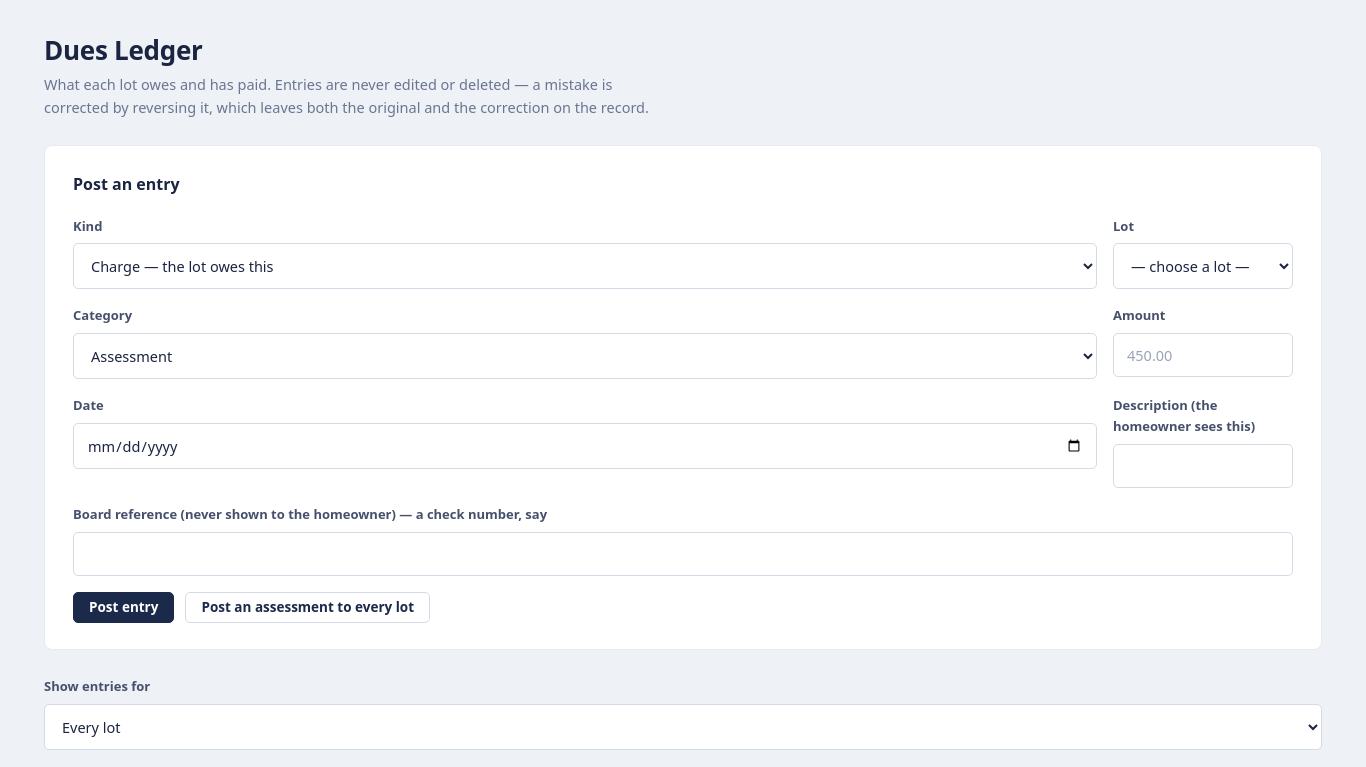
Test case: the money a board member types › refuses a third decimal place rather than rounding it away
In the field labelled "Amount": (1203, 355) top-left (1113, 333), bottom-right (1293, 377), type "450.755"
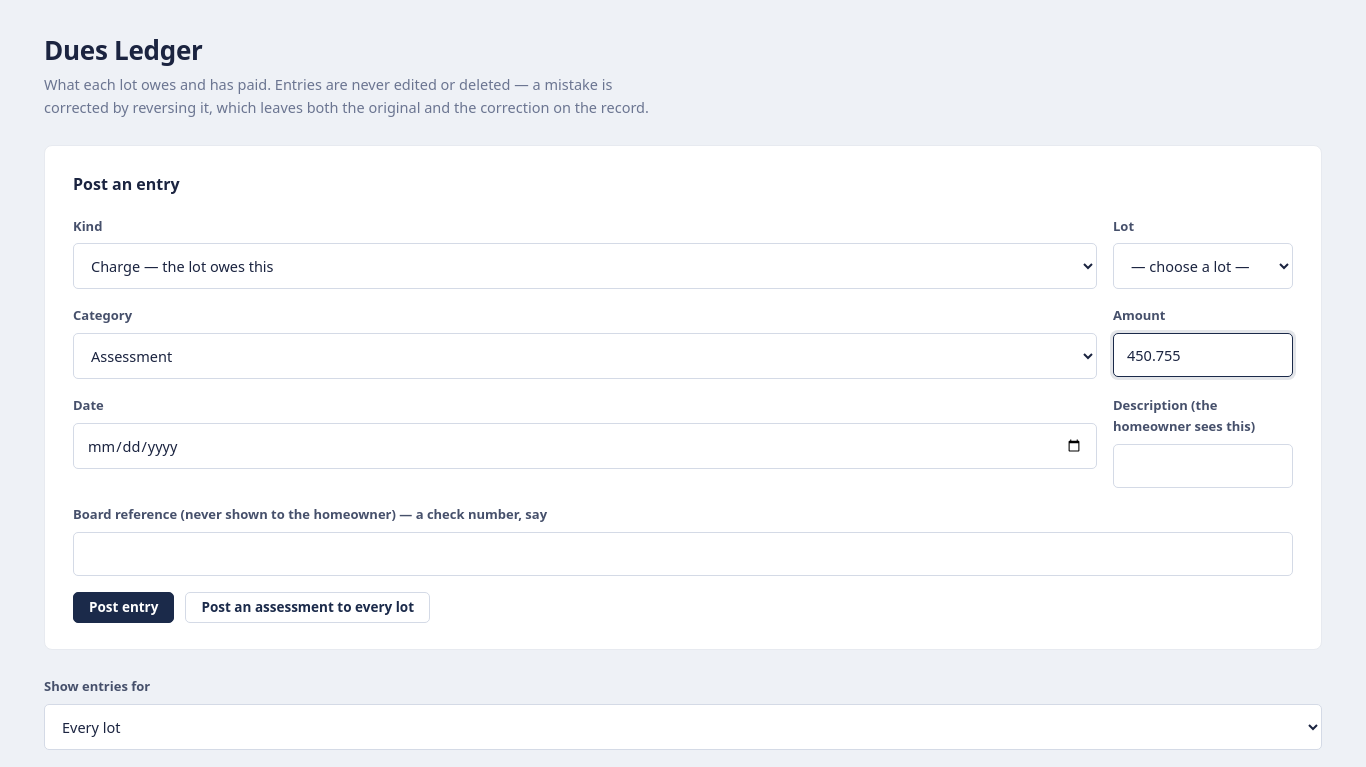
Click the button "Post entry": (124, 607) top-left (73, 592), bottom-right (174, 623)
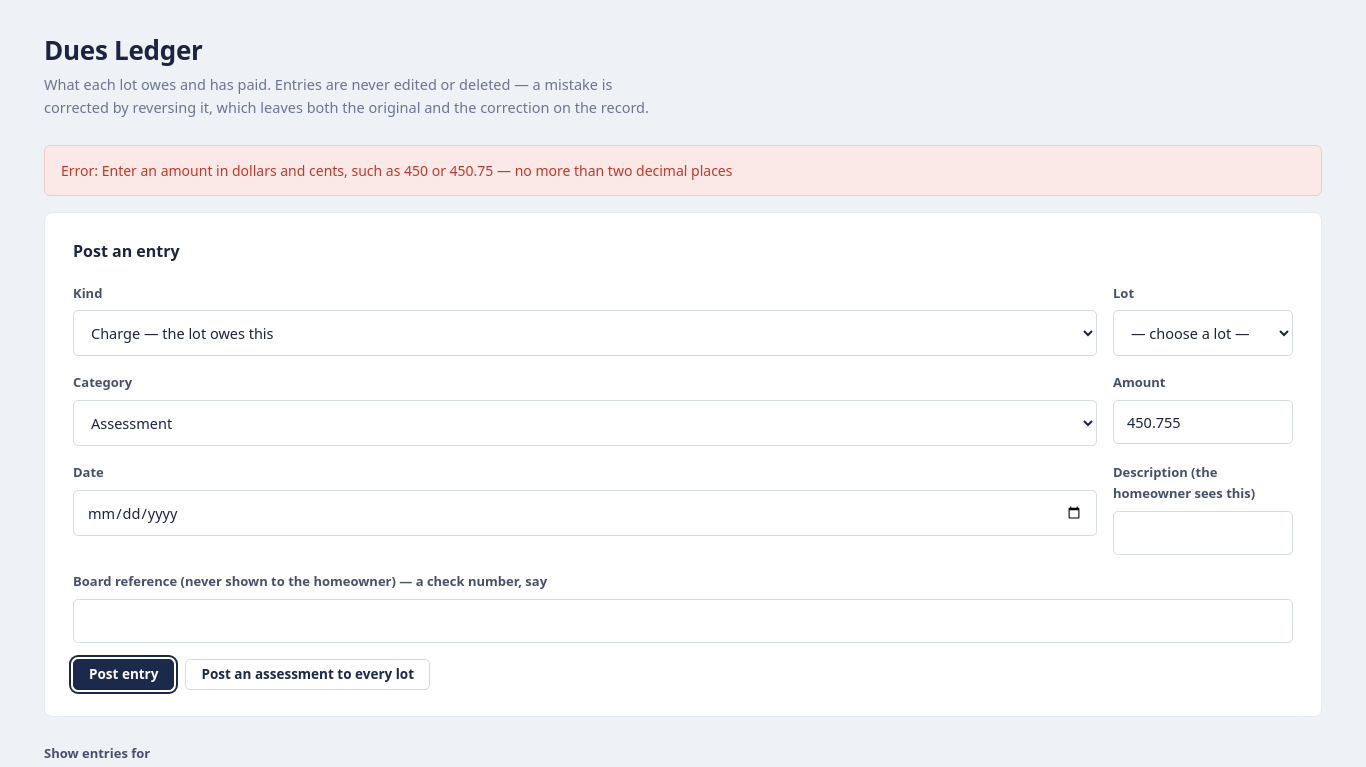
Expected: the text "two decimal places" is shown, top-left (61, 161), bottom-right (732, 180)
